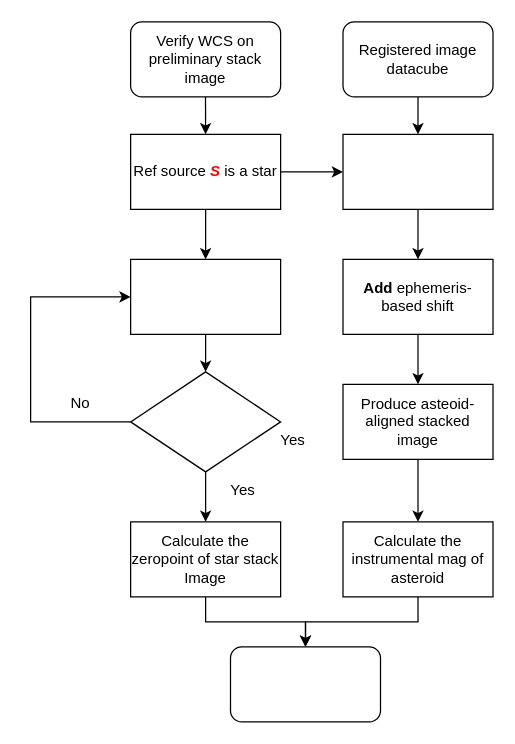
Image size: 515x744. Some labels were removed from this diagram. The shapes that lost their labels are listed below. From the top down, each one's box as (x1, y1, x2, y2) in pixels, then its label:
(342, 133, 493, 209): Calculate the ephemeris-based shifts
(129, 258, 281, 334): Select another source as asteroid
(129, 371, 281, 472): Check WCS match?
(229, 646, 380, 722): Asteroid magnitude
